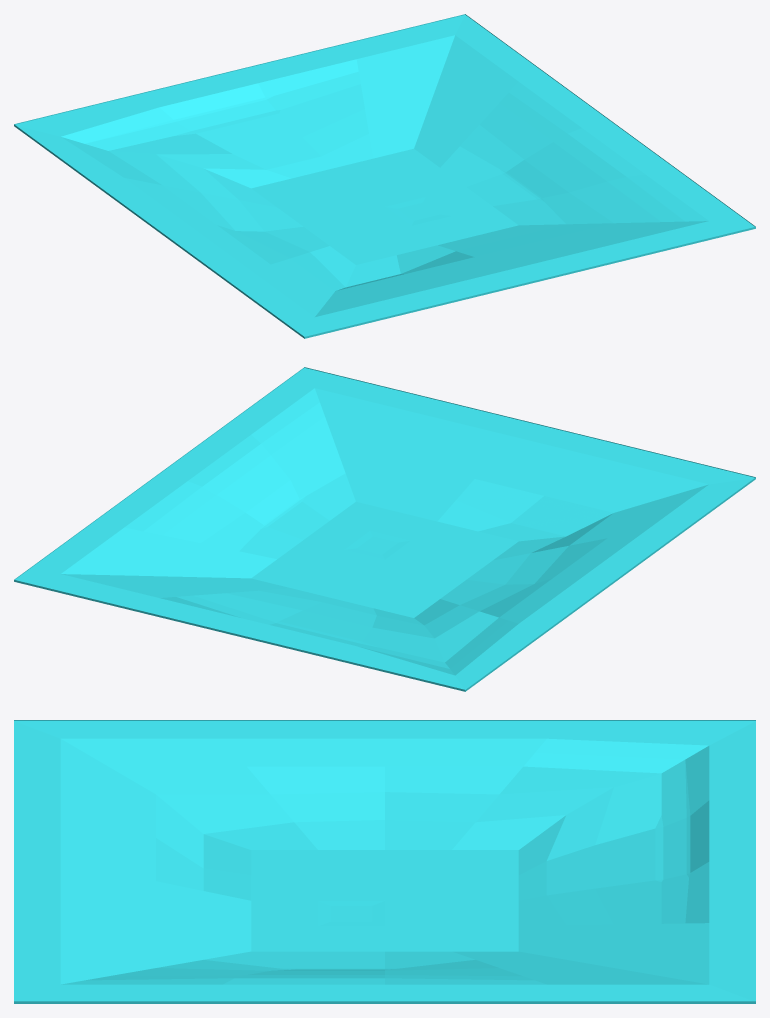
The model's file is ARENA2.fbx.
3 renders of one model, top to bottom at view 1: azimuth 30°, elevation 25°; view 2: azimuth 150°, elevation 25°; view 3: azimuth 270°, elevation 25°, orthographic. The views are drawn at different scales.
Parts seen in each view (by area): view 1: Cube; view 2: Cube; view 3: Cube.
Boxes of the visible parts, <box> form: Cube: <box>14,14,755,338</box>; Cube: <box>14,367,755,691</box>; Cube: <box>14,720,755,1003</box>.
Bounding box in the file's own units: 108524 × 7585 × 120991.
